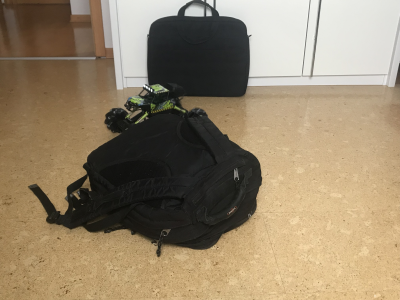remote control car: (101, 81, 209, 140)
